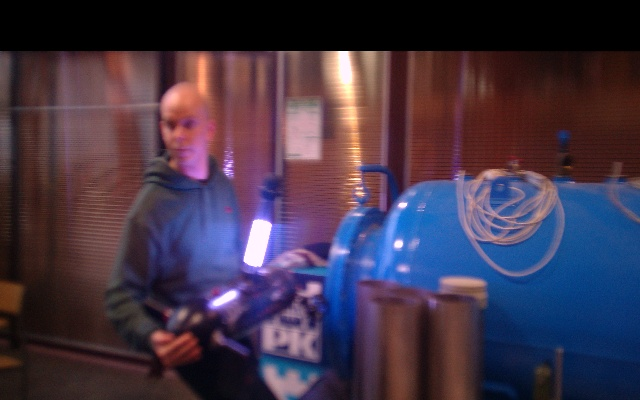white: (245, 220, 272, 271)
